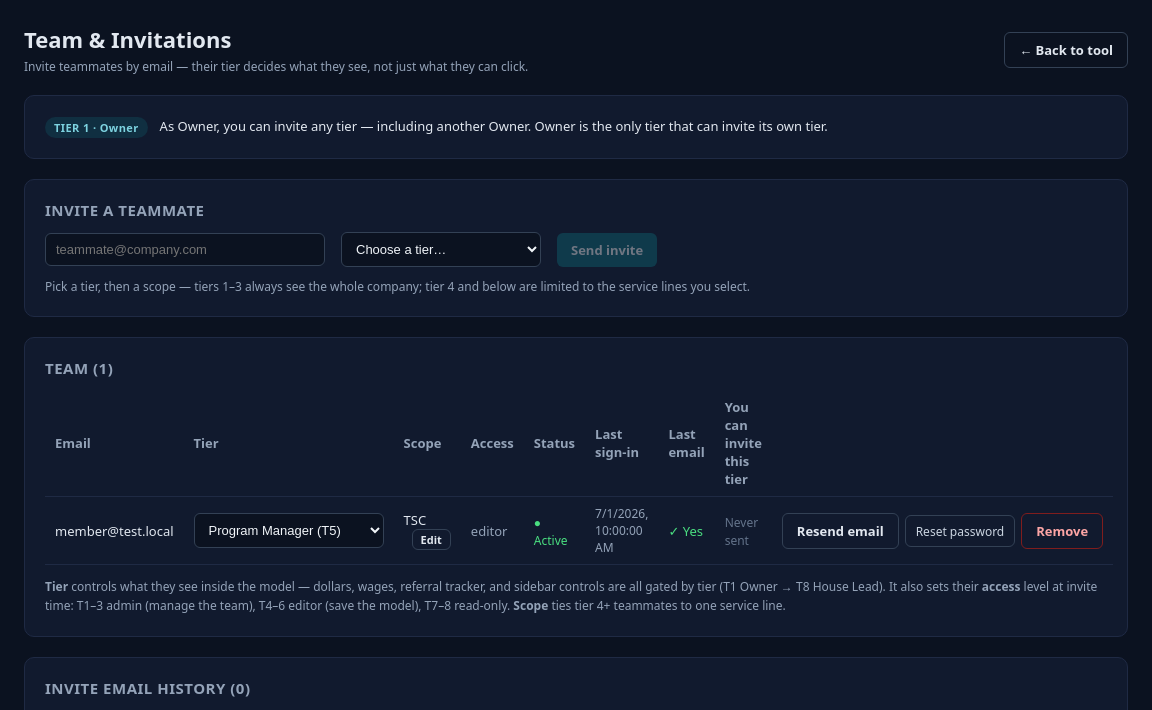
Test case: TeamPanel invite form › surfaces sendInvite errors
Step 1. Type "x@test.local" into the field named "Invite email" → (185, 250), box [45, 233, 325, 266]
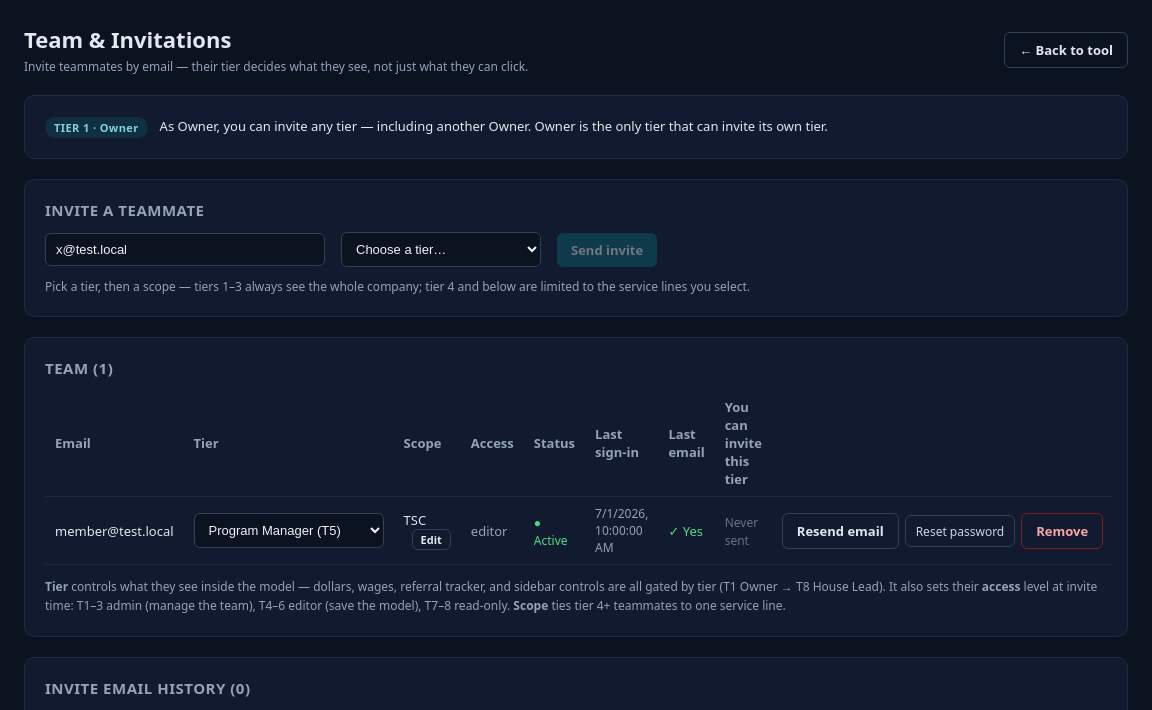
Step 2. Select "Owner (T1)" in the dropdown named "Invite tier" → (441, 250), box [341, 232, 541, 267]
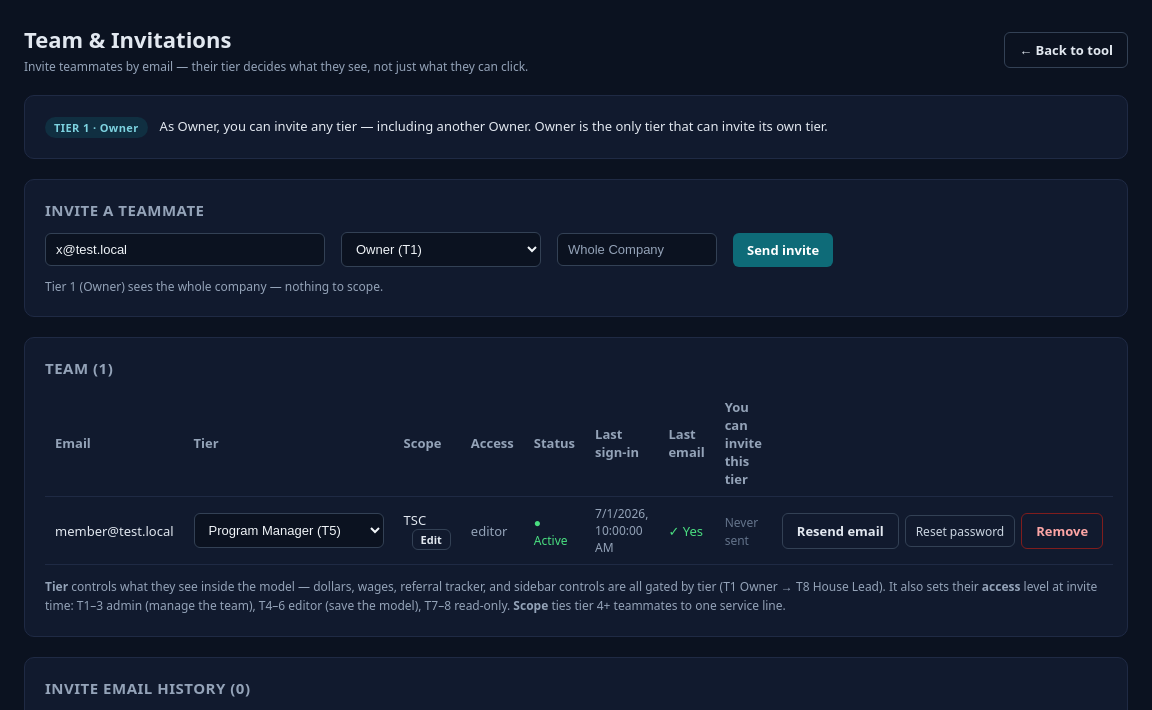
Step 3. Click the button "Send invite" → (783, 250), box [733, 232, 833, 266]
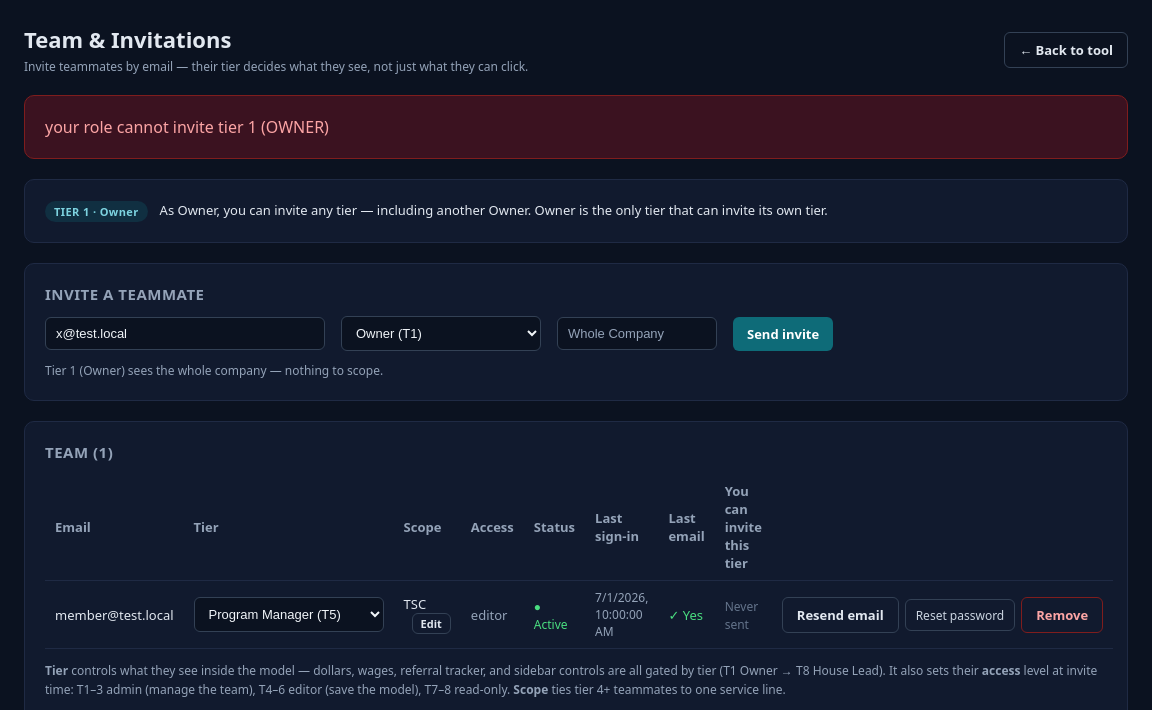
Expected: the text "your role cannot invite tier 1 (OWNER)" is shown, [24, 95, 1128, 159]
